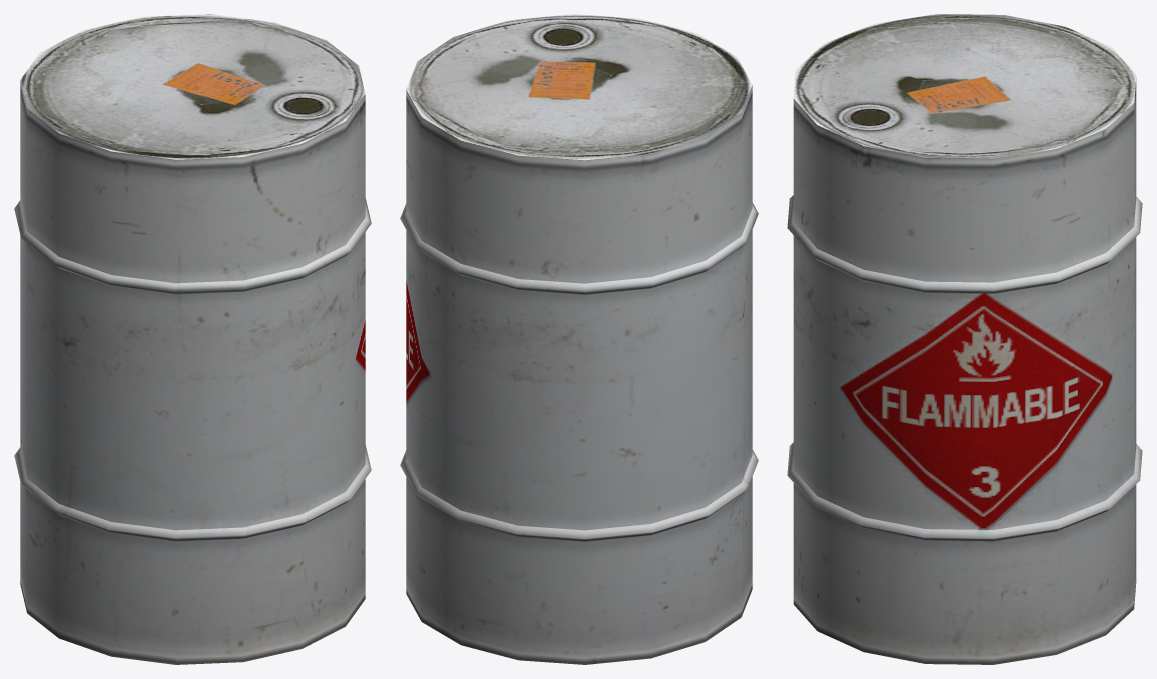
The model's file is barrel_fuel.glb.
3 views of the same model, side by side, from view 1: azimuth 30°, elevation 25°; view 2: azimuth 150°, elevation 25°; view 3: azimuth 270°, elevation 25° (orthographic).
Parts seen in each view (by area): view 1: barrel_fuel; view 2: barrel_fuel; view 3: barrel_fuel.
Boxes of the visible parts, x1=… form: barrel_fuel: x1=14, y1=14, x2=371, y2=664; barrel_fuel: x1=400, y1=14, x2=758, y2=664; barrel_fuel: x1=787, y1=14, x2=1142, y2=664.
Size of the model in its own units: 0.5451 by 0.8573 by 0.5451.
Materials: 1 (1 with a texture image).
